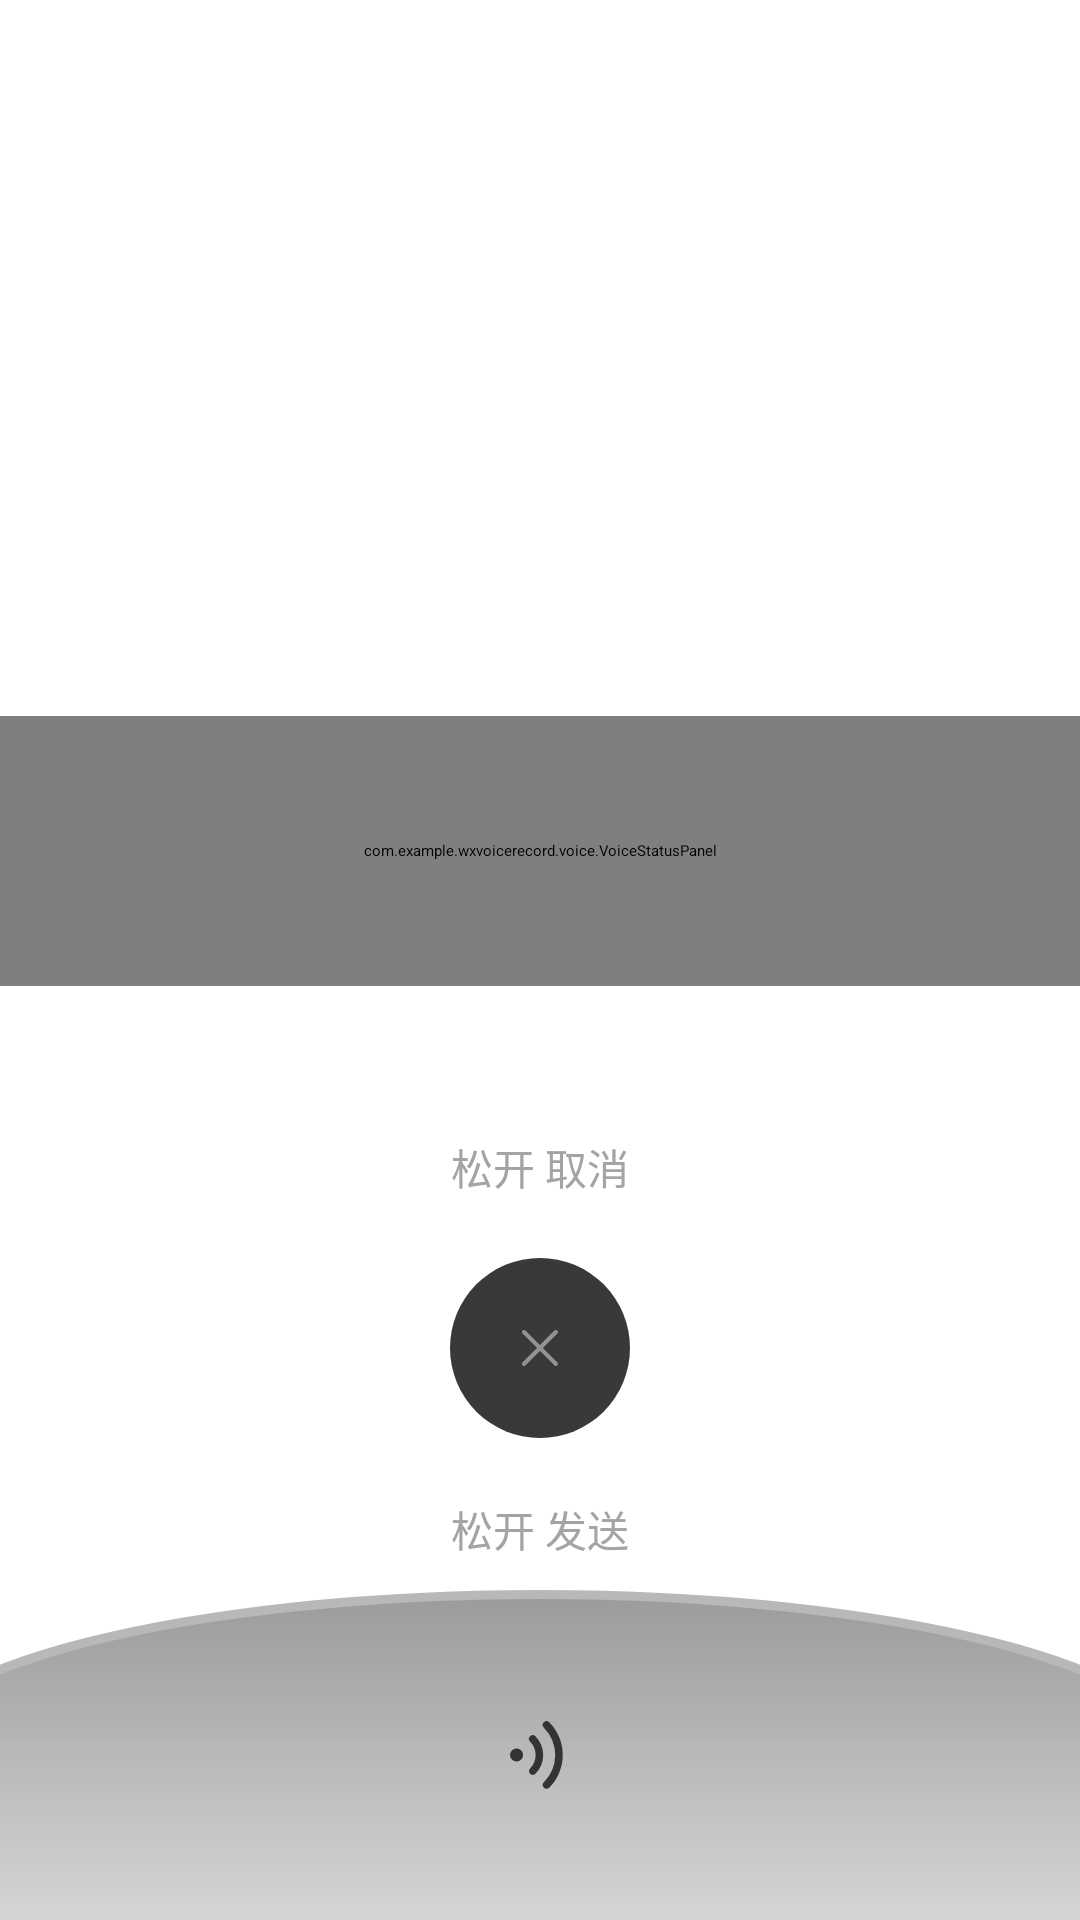

Icon click points for this 1080w x 1920h phone screenshot, format point (x, y):
cancel: point (540, 1348)
voice left level: point (540, 1742)
